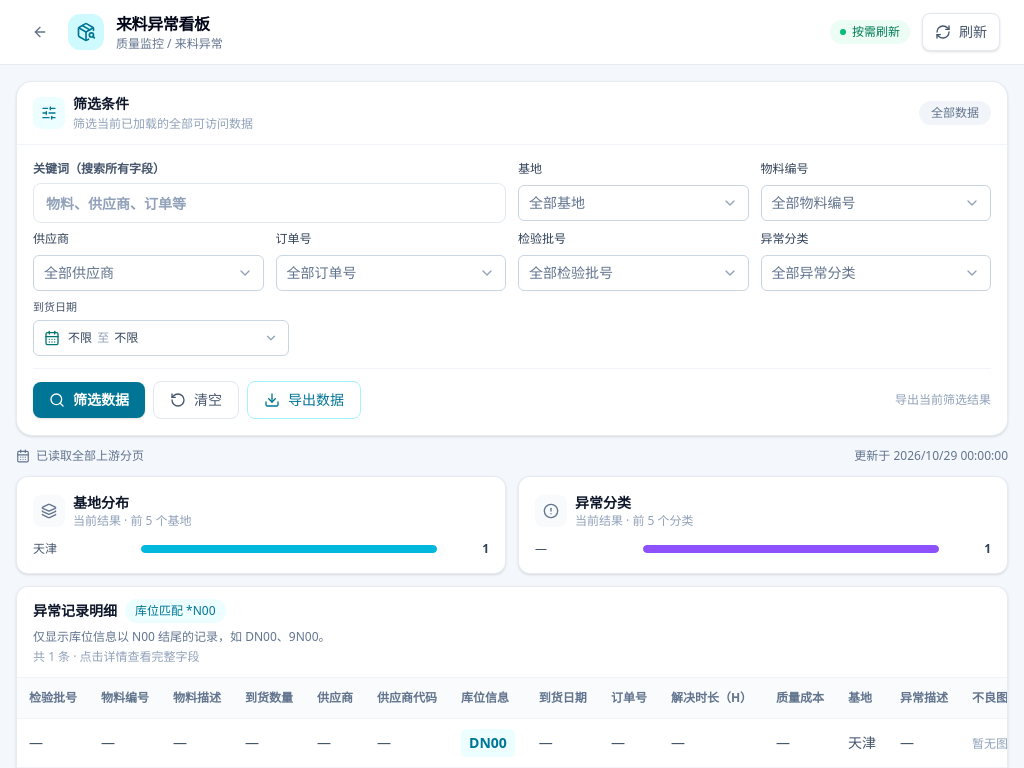
Scenario: only offers bases available to the current user
Expected: the text "DN00" is shown, 461,728 -> 515,756
Click the button with aria-label "基地（多选）" at (633, 203), box 518,185 -> 748,221
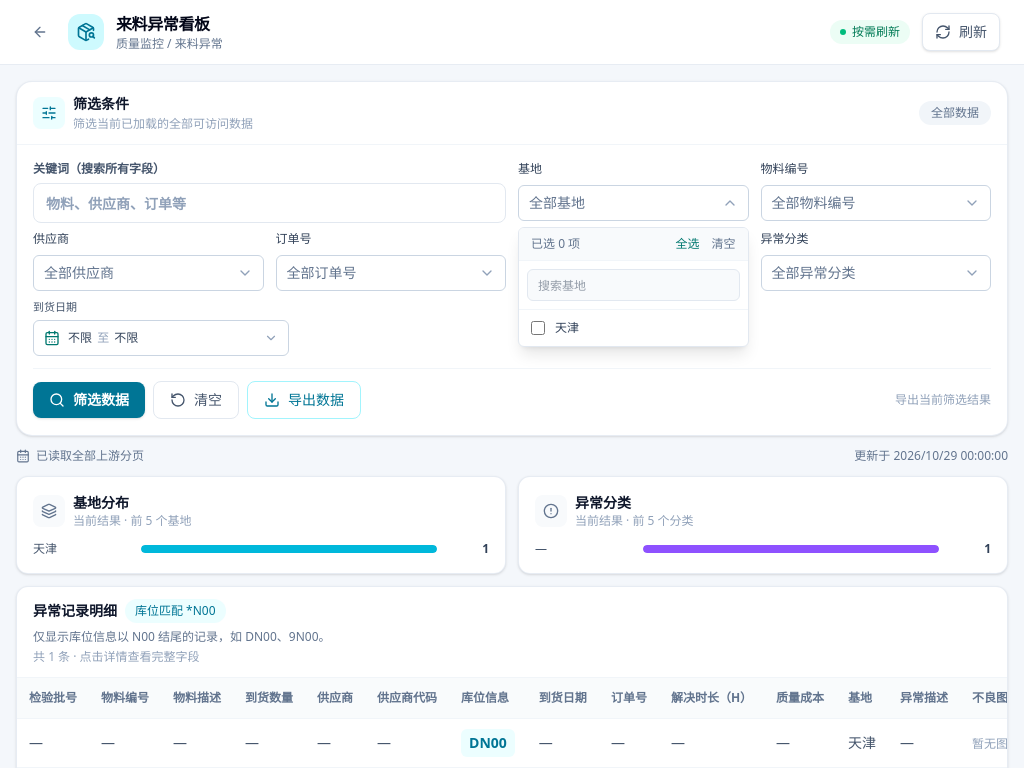
Now the checkbox labelled "天津" is shown, box 531,321 -> 545,335
